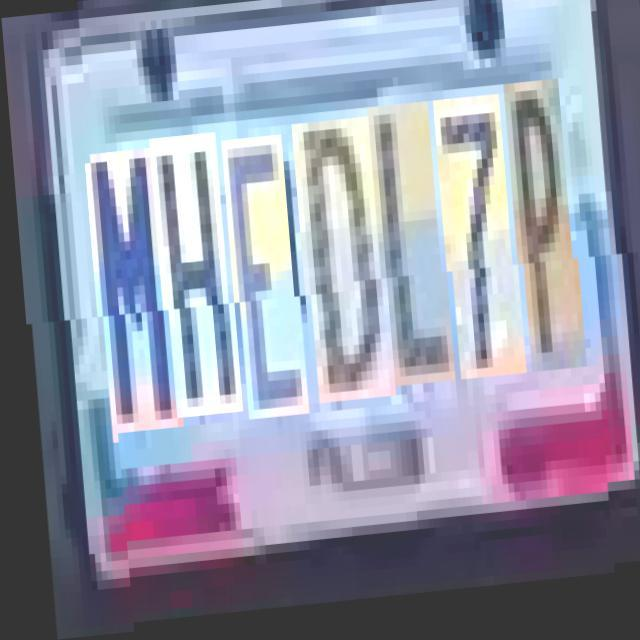7: (436, 104, 519, 389)
D: (294, 123, 388, 410)
E: (224, 140, 302, 424)
H: (152, 136, 235, 421)
L: (370, 110, 448, 394)
M: (87, 150, 176, 436)
P: (506, 90, 580, 383)
